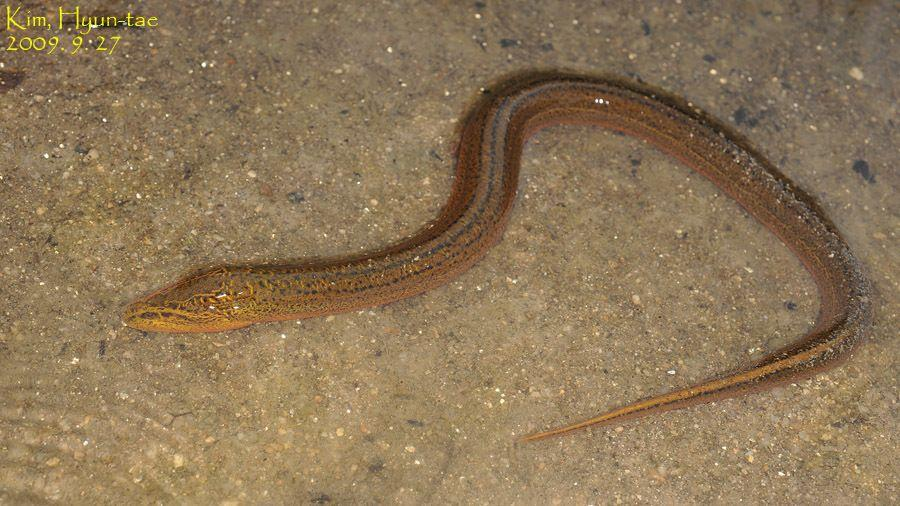Freshwater Eel: (115, 69, 879, 443)
